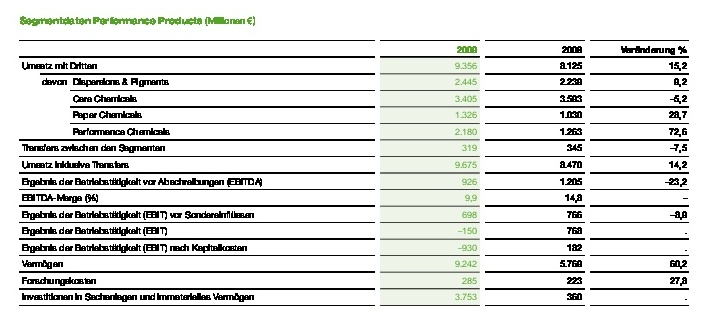table: (0, 0, 701, 326)
